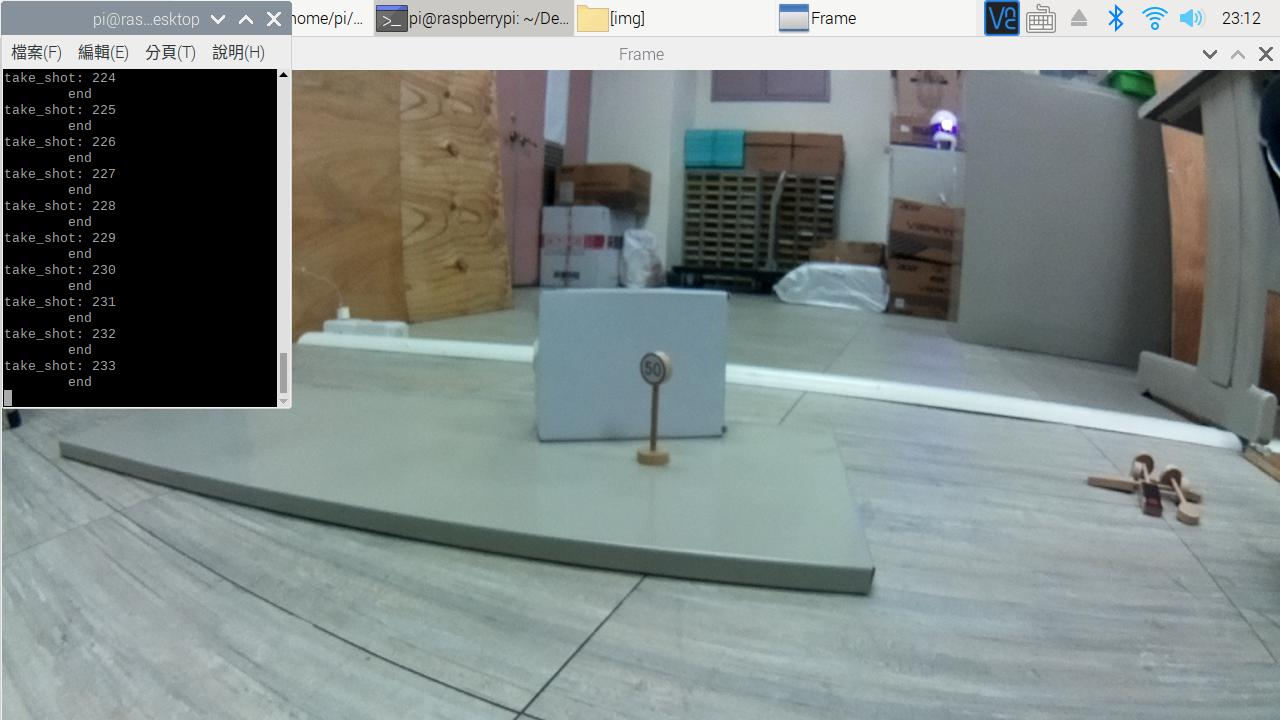Speed50: (634, 346, 679, 404)
